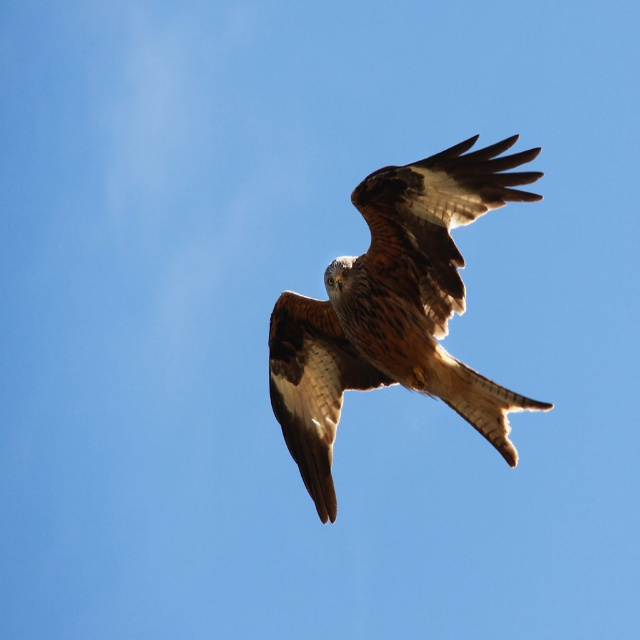Eagle: (268, 134, 554, 525)
